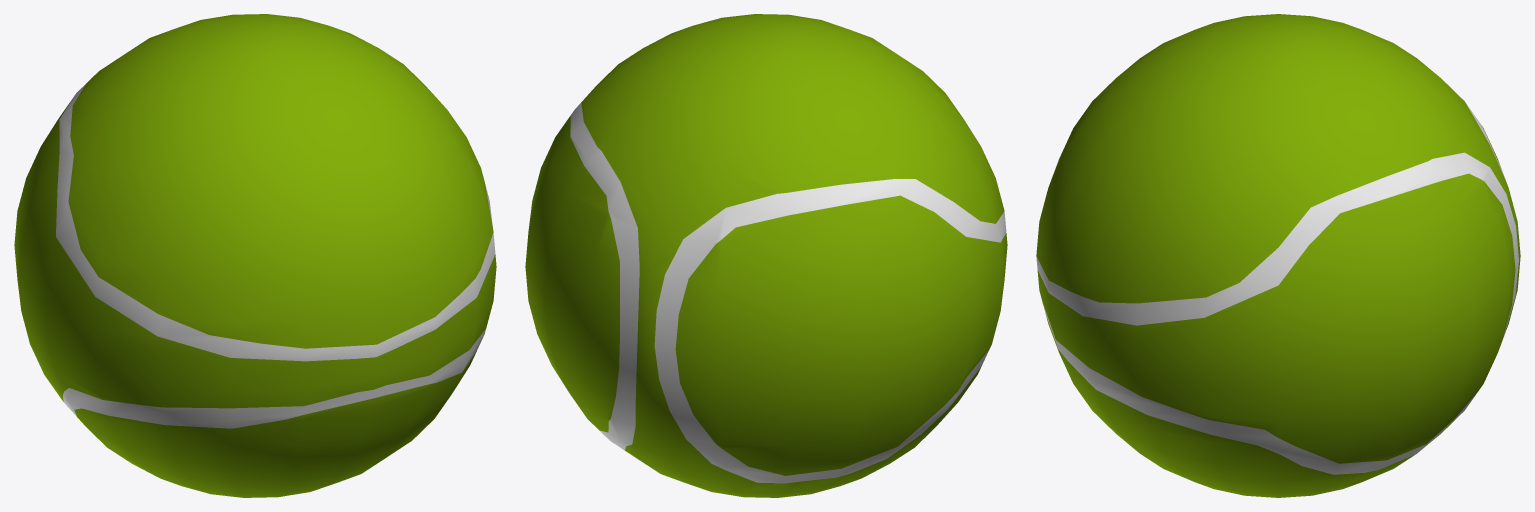
Rendered from GameJamTennisBall.fbx.
3 renders of one model, left to right at view 1: azimuth 30°, elevation 25°; view 2: azimuth 150°, elevation 25°; view 3: azimuth 270°, elevation 25°, orthographic.
Visible parts, largest first — view 1: pSphere1; view 2: pSphere1; view 3: pSphere1.
Part boxes in pixels (bbox=[...]): pSphere1: bbox=[14, 14, 496, 497]; pSphere1: bbox=[525, 14, 1007, 497]; pSphere1: bbox=[1036, 14, 1520, 497].
Bounding box in the file's own units: 2 × 2 × 2.
